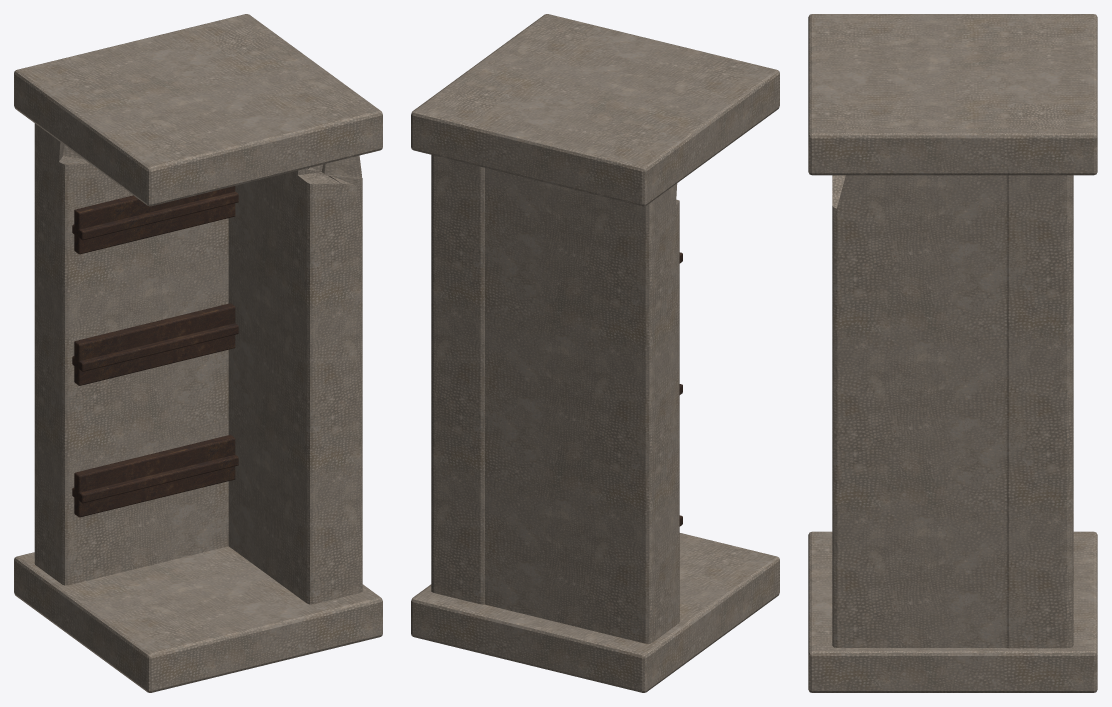
File: f3_v3_structural_corner.glb
3 views of the same model, side by side, from view 1: azimuth 30°, elevation 25°; view 2: azimuth 150°, elevation 25°; view 3: azimuth 270°, elevation 25° (orthographic). The views are drawn at different scales.
Parts seen in each view (by area): view 1: f3_weathered_concrete_surface, f3_oxidized_iron_surface; view 2: f3_weathered_concrete_surface; view 3: f3_weathered_concrete_surface.
Part boxes in pixels (bbox=[...]): f3_weathered_concrete_surface: bbox=[14, 14, 382, 692]; f3_oxidized_iron_surface: bbox=[72, 186, 238, 517]; f3_weathered_concrete_surface: bbox=[411, 14, 779, 692]; f3_weathered_concrete_surface: bbox=[808, 14, 1097, 692].
Bounding box in the file's own units: 1.5 × 3.2 × 1.5.
2 materials, 2 textured.
